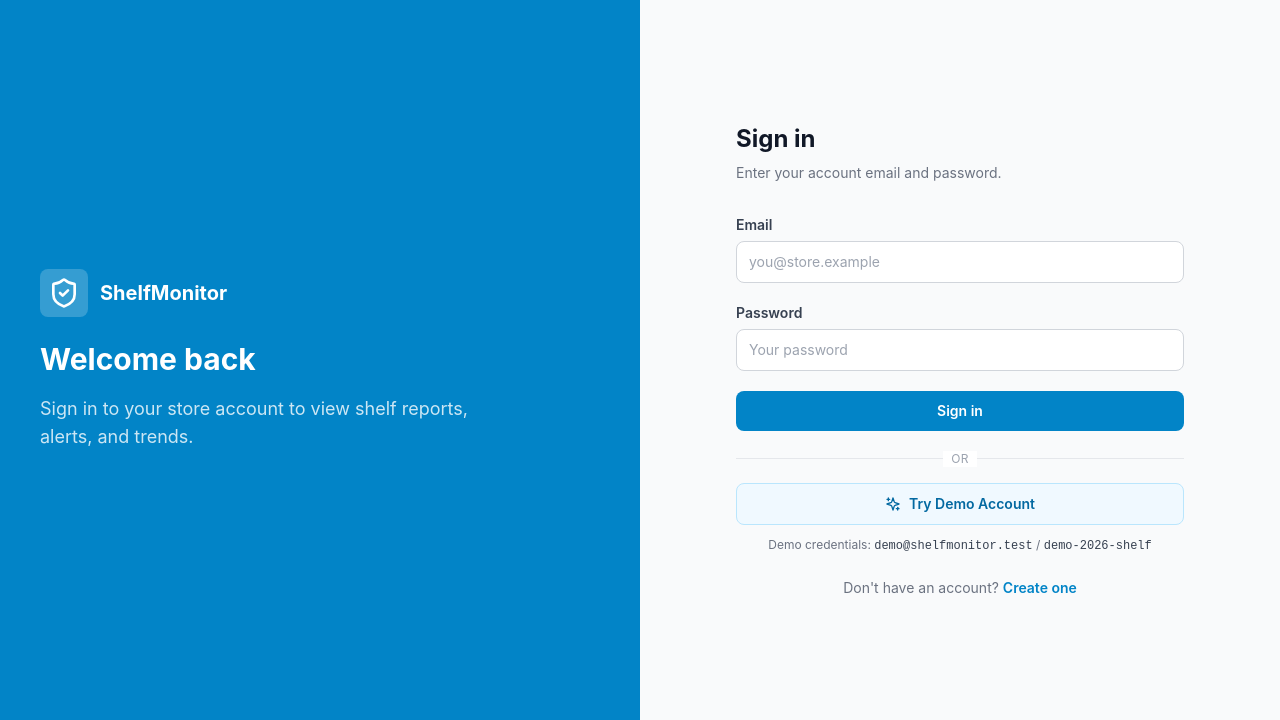
Test: LoginPage demo access › surfaces a failed demo sign-in instead of silently doing nothing
The width and height of the screenshot is (1280, 720).
Click the button "Try Demo Account".
click(960, 504)  # box [736, 482, 1184, 524]
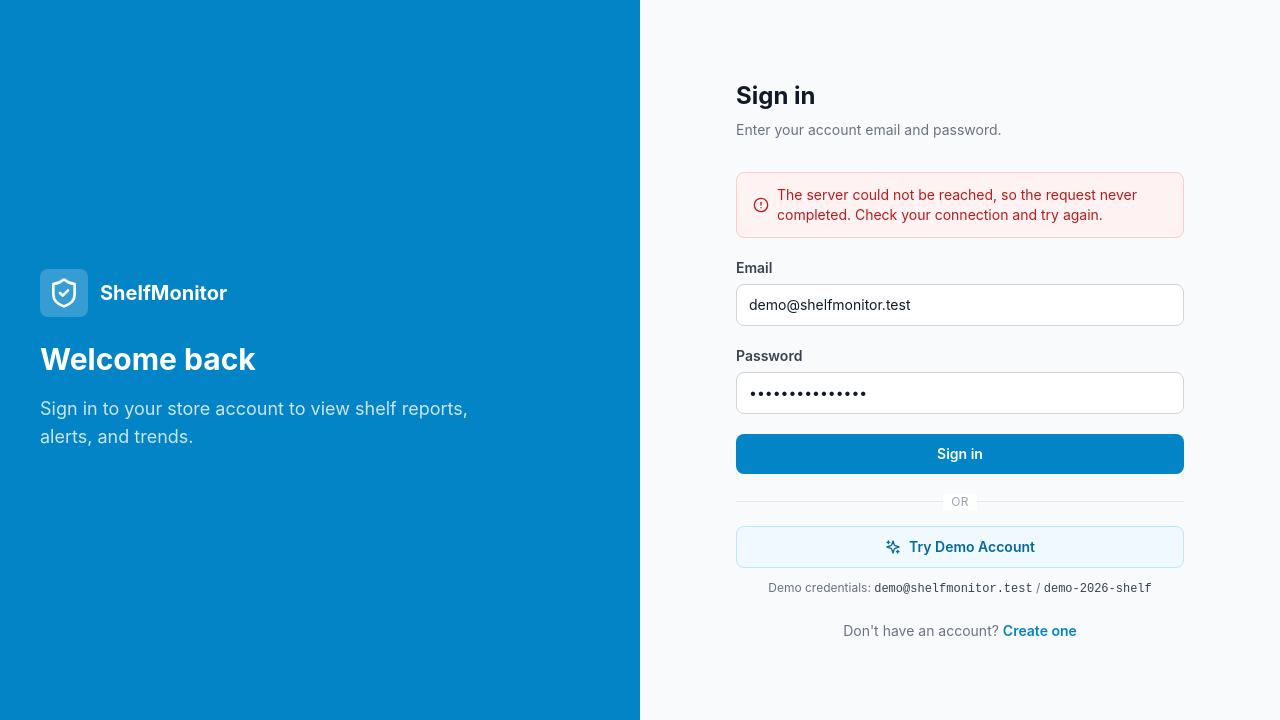
Result: the text "server could not be reached" is shown at [777, 186, 1137, 222]
